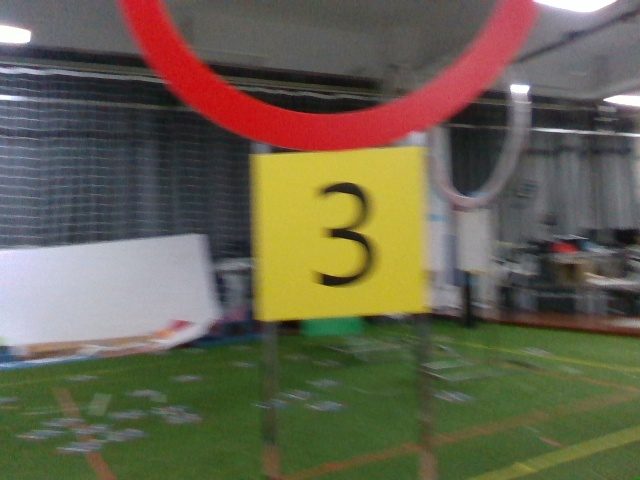target: (257, 162, 422, 313)
